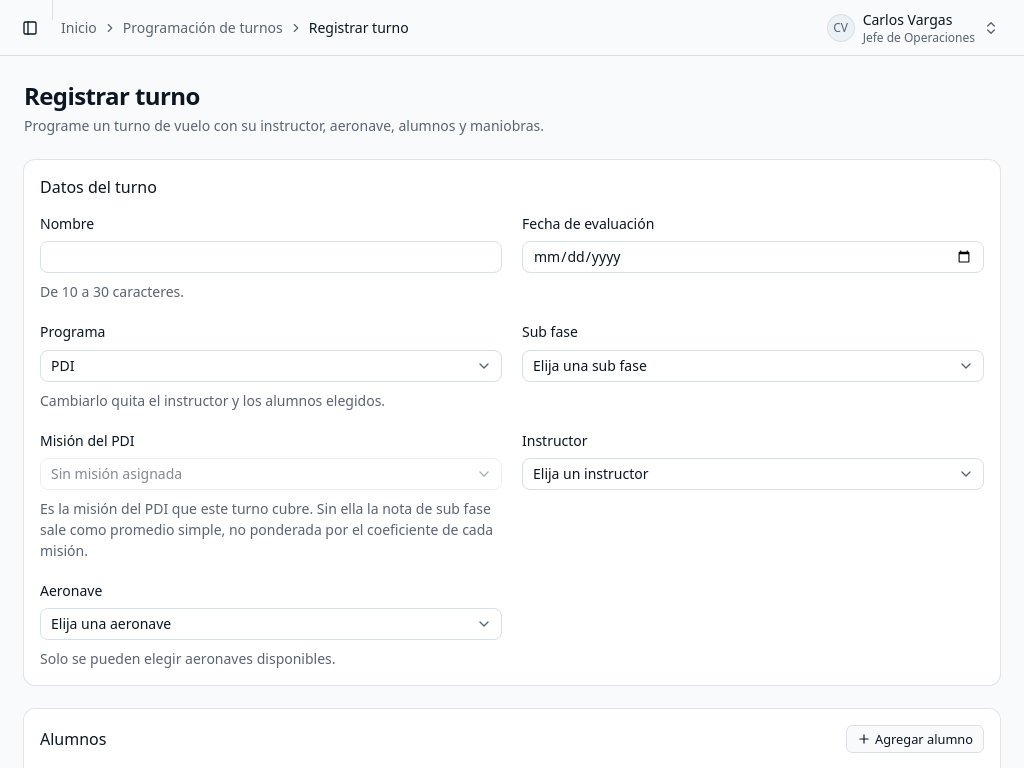
Bloqueo por subsanación en el turno práctico › CA-RES-10 la fila de un alumno bloqueado muestra E22 con su motivo e impide guardar
The width and height of the screenshot is (1024, 768).
expect the field labelled "Nombre" is shown: met, box [40,241,502,273]
Click the button "Agregar alumno": {"x": 915, "y": 739} [846,725,984,753]
(page scrolled)
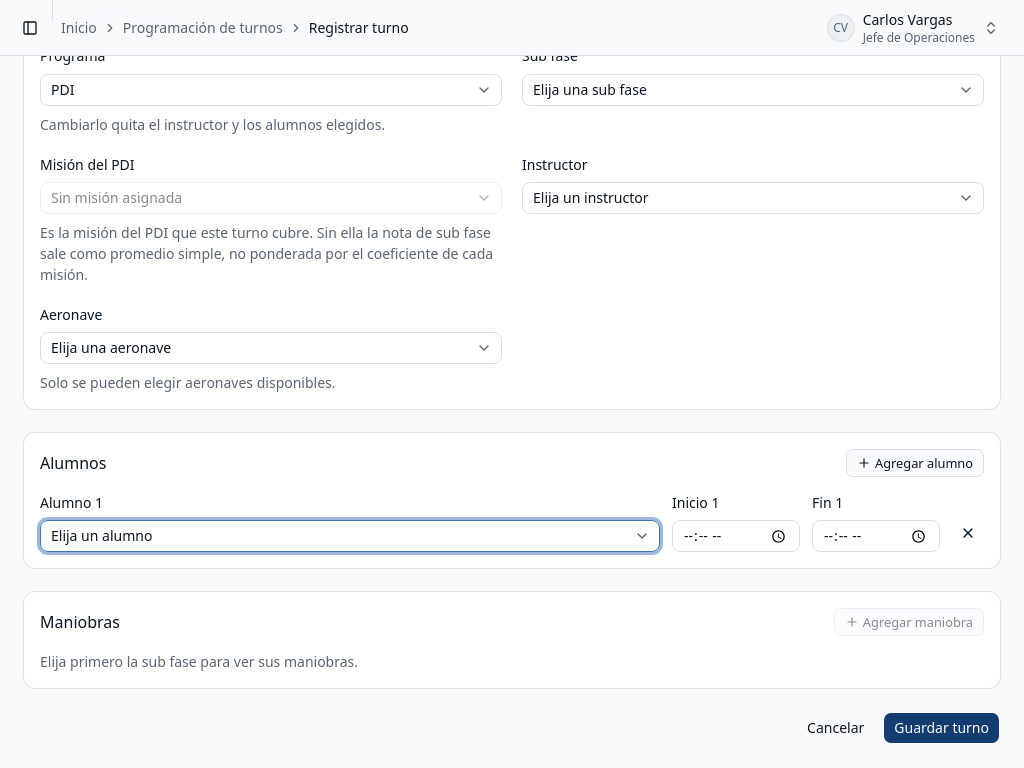
Select "Ana Torres Martinez" in the dropdown labelled "Alumno 1": {"x": 350, "y": 536} [40,520,660,552]
(page scrolled)
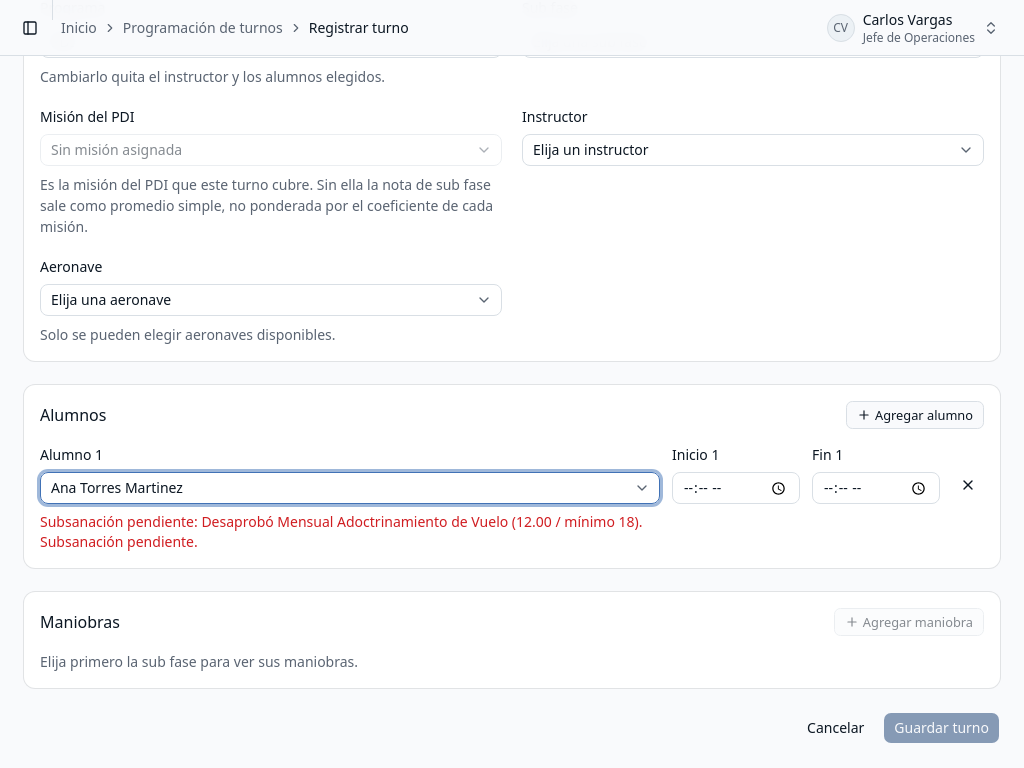
expect the button "Guardar turno" is disabled: met, box [883,712,1000,744]
